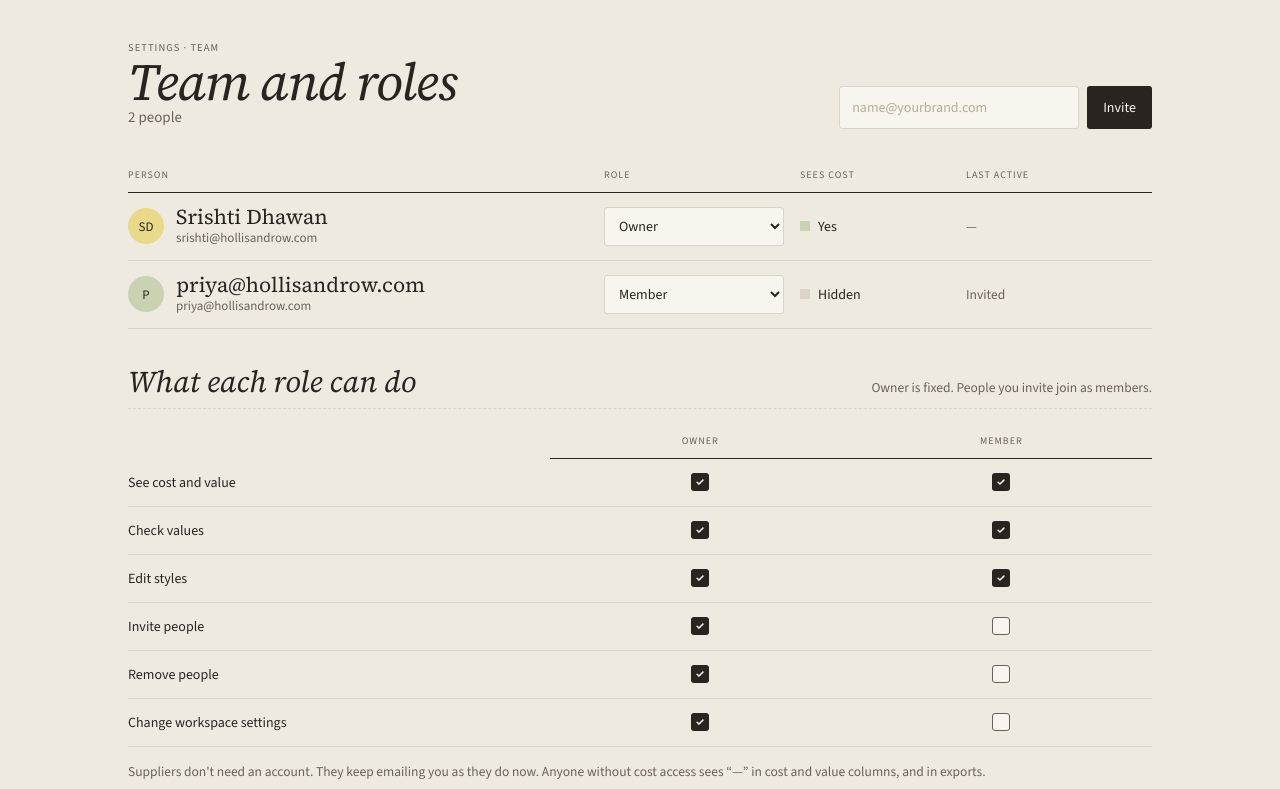
Test case: TeamPage › does not send an invalid invitation
The width and height of the screenshot is (1280, 789).
Expected: the text "Srishti Dhawan" is shown, [176, 205, 328, 228]
Type "not-an-email" into the field named "Email address" at (959, 107), box [839, 86, 1079, 129]
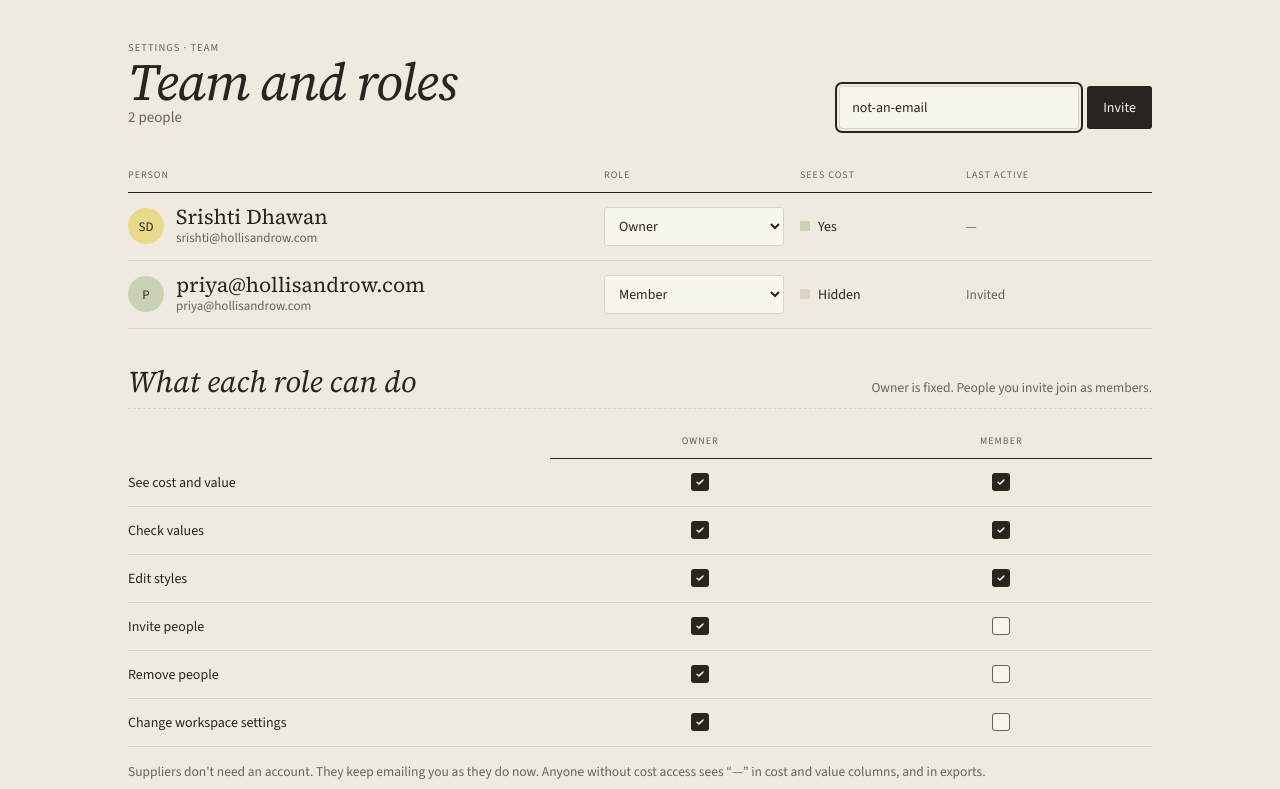
Click the button "Invite" at (1120, 107), box [1087, 86, 1152, 129]
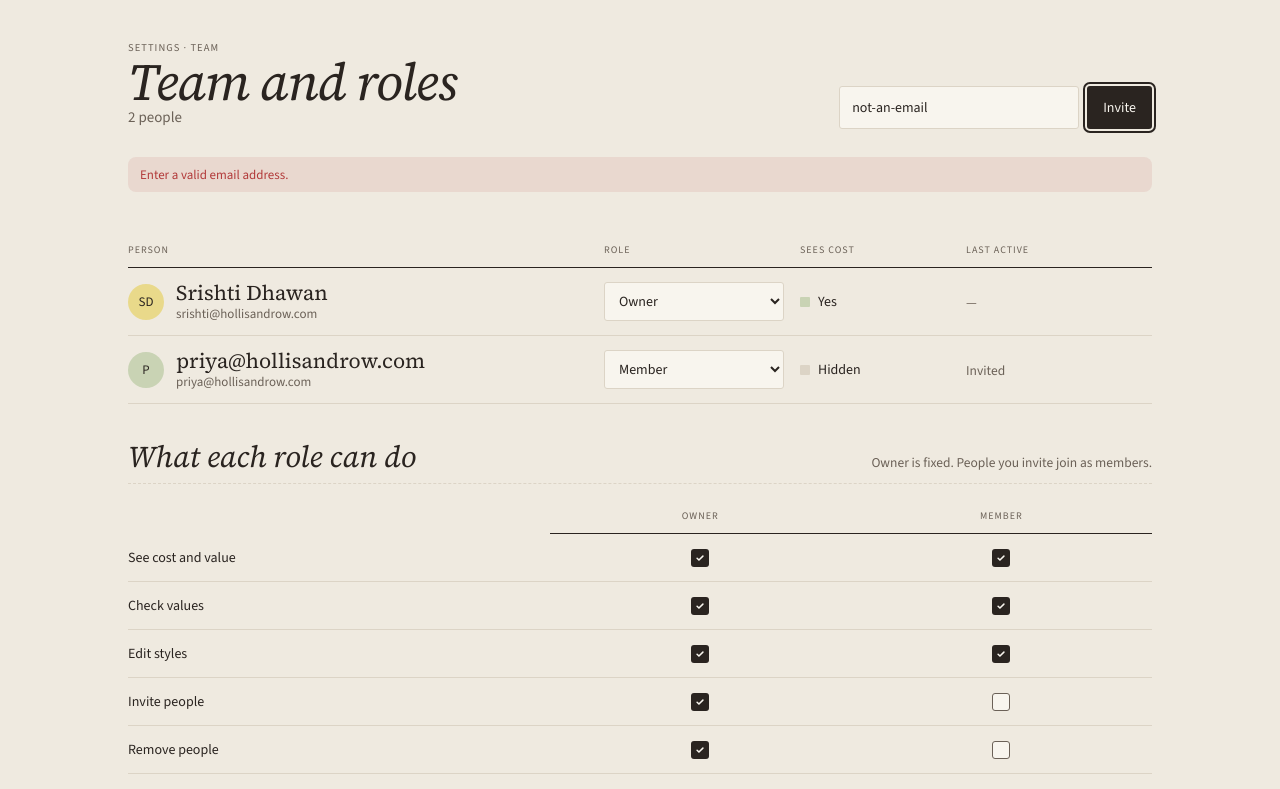
Now the message reads "Enter a valid email address.", box [140, 166, 288, 183]
